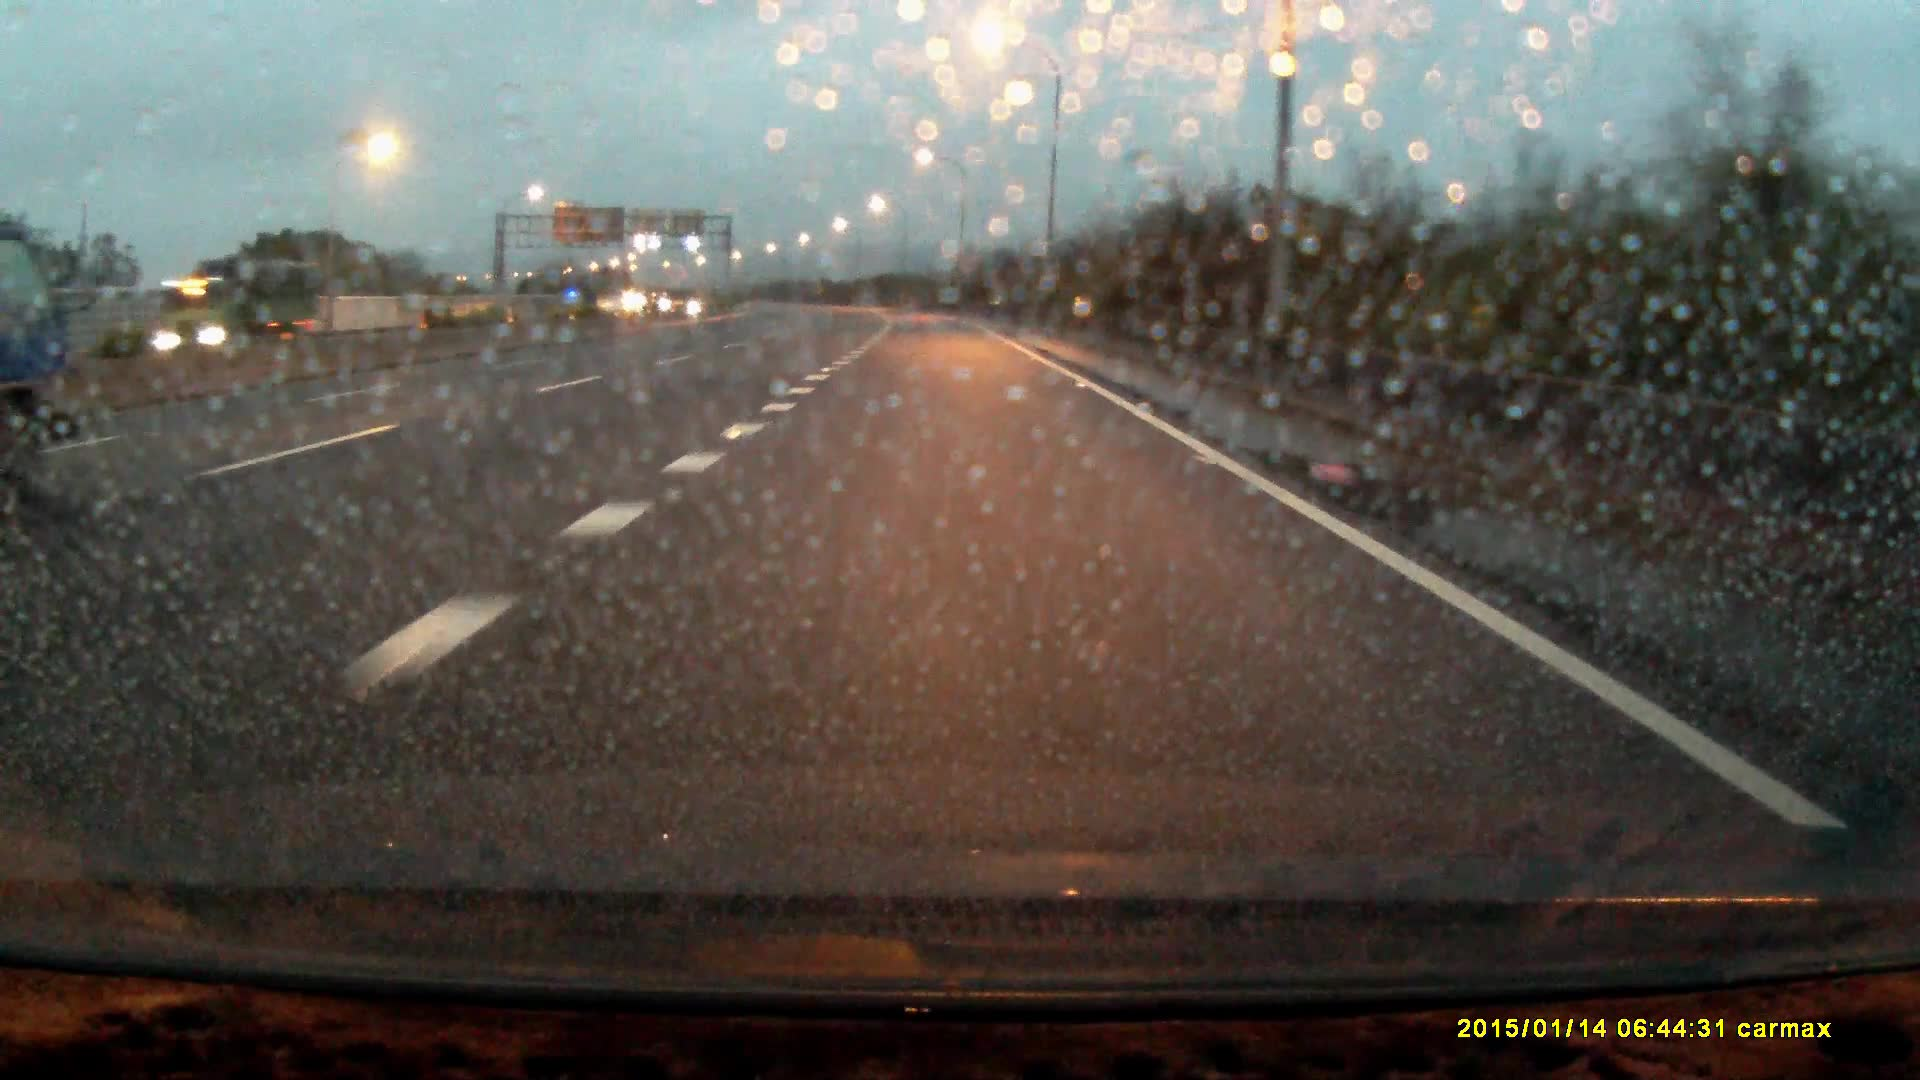vehicle: (177, 268, 318, 348)
